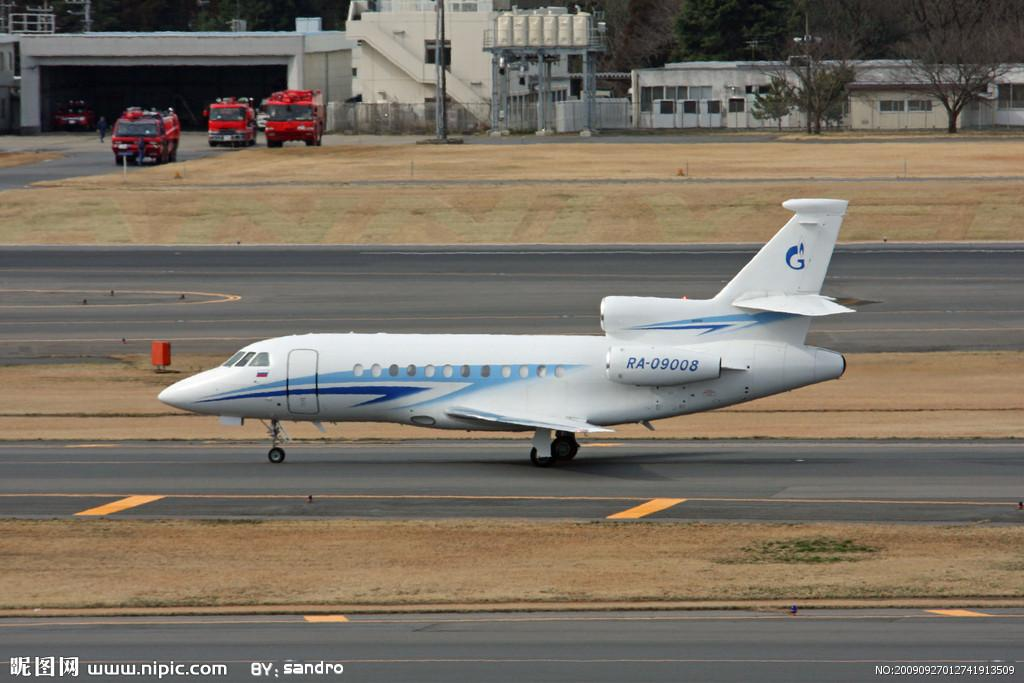airplane: (155, 195, 884, 465)
